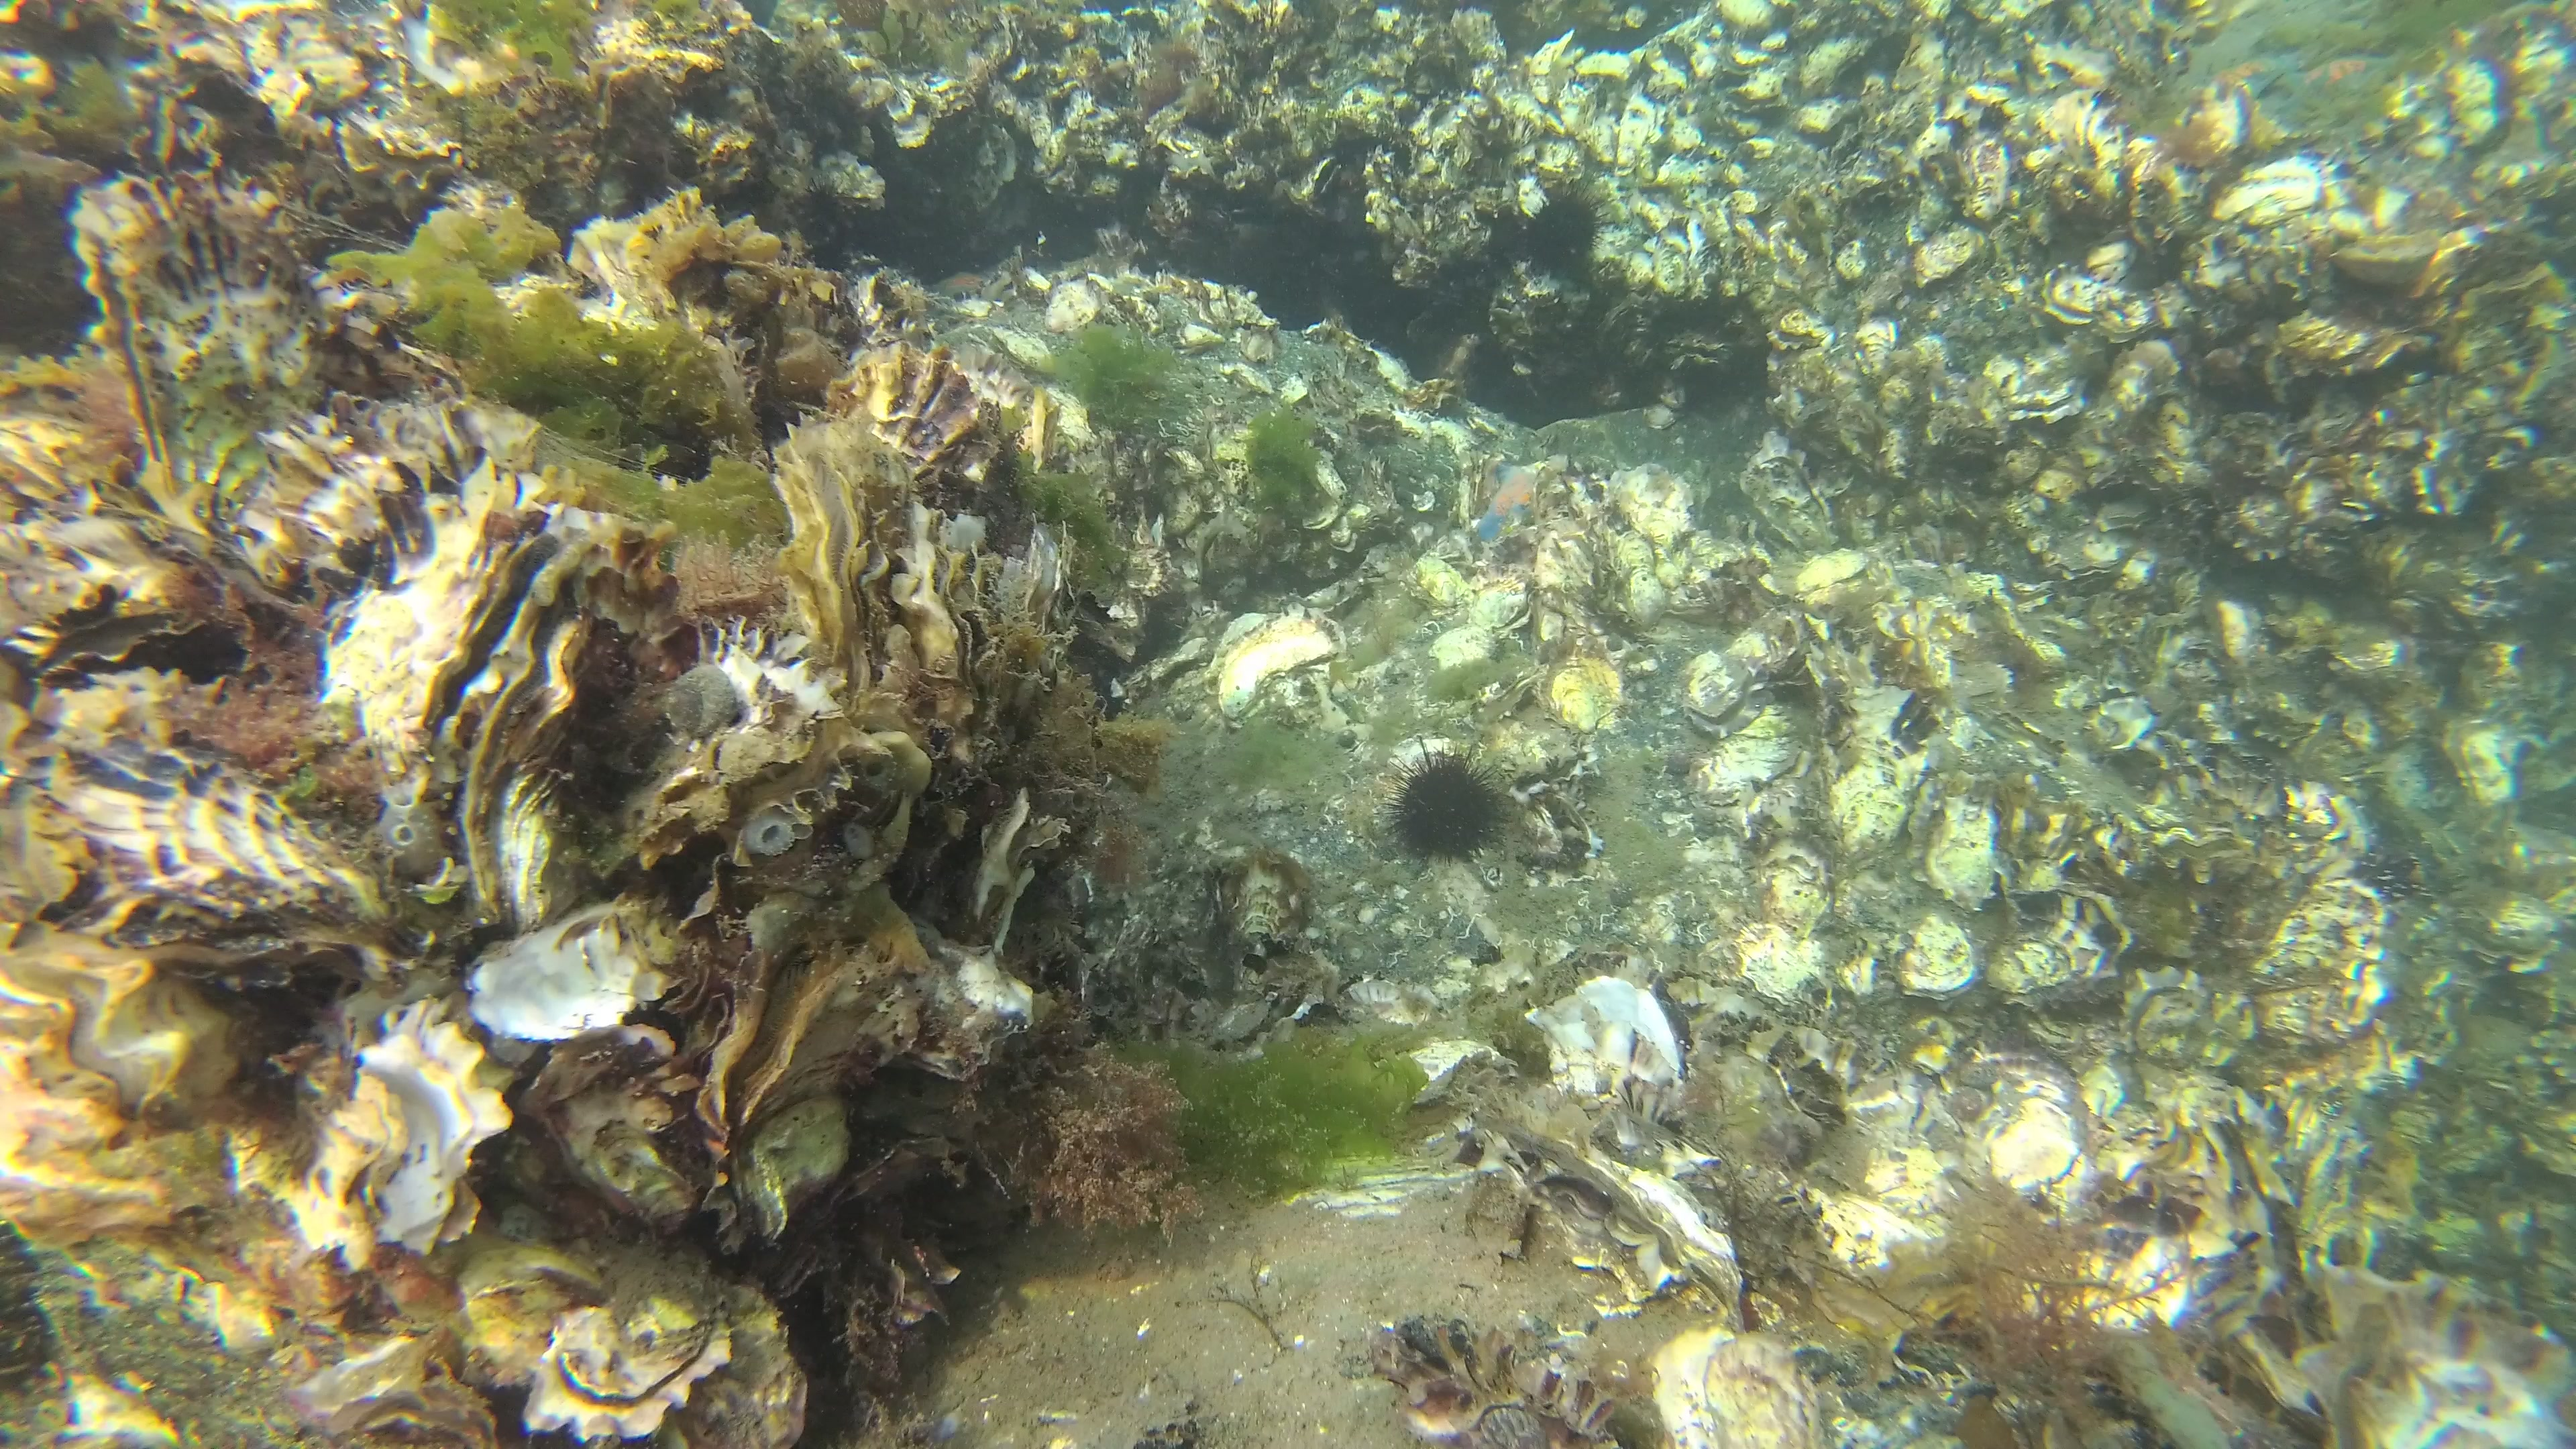echinus: (1387, 738, 1511, 874), (1523, 191, 1603, 281)
starfish: (1465, 460, 1548, 545), (2293, 51, 2404, 106), (2217, 55, 2282, 106)
